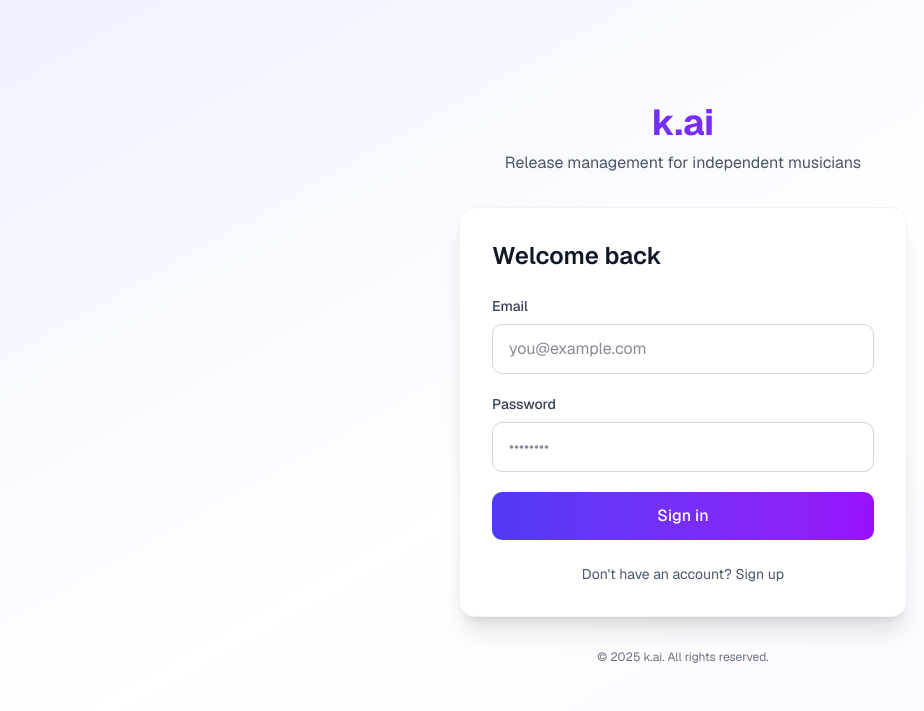
LoginPage › displays generic error message when error is not an Error instance
Type "test@example.com" into the field with placeholder "you@example.com" at point(683, 349), box x1=492 y1=324 x2=874 y2=374
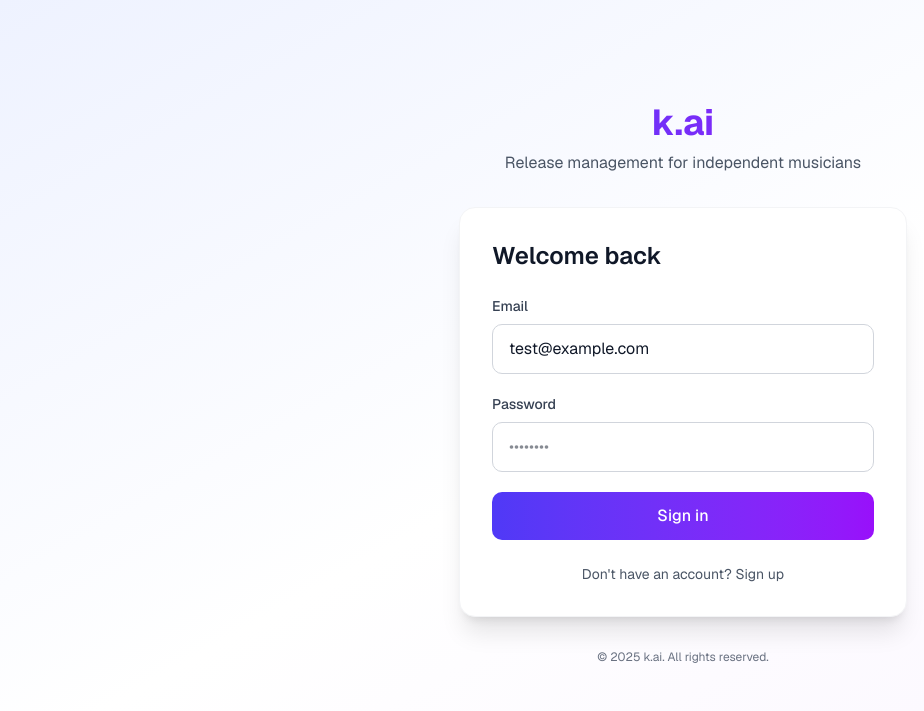
Type "password123" into the password field with placeholder "••••••••" at point(683, 447), box x1=492 y1=422 x2=874 y2=472
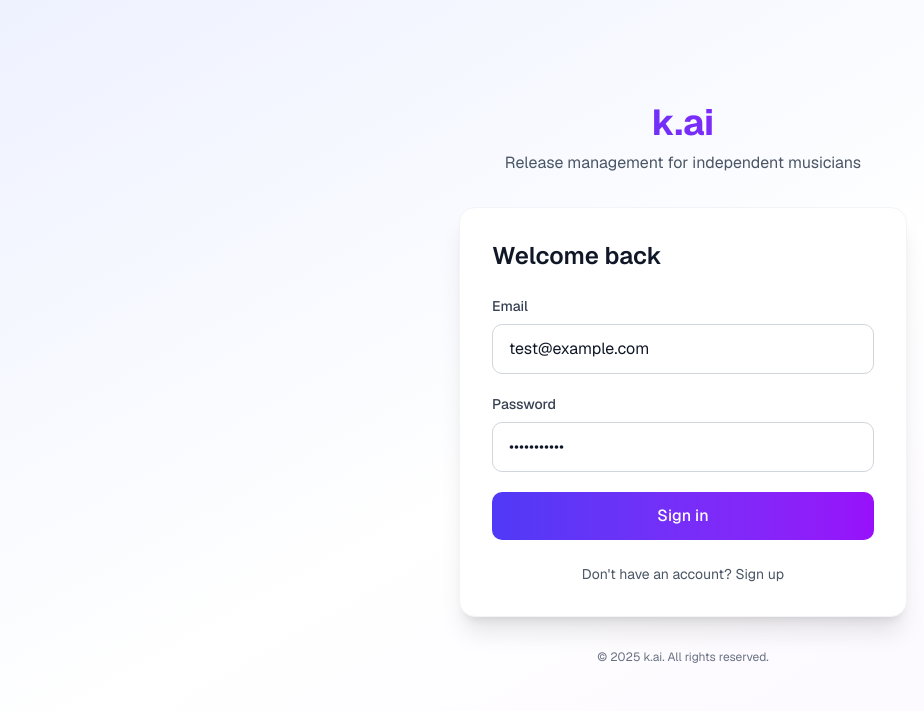
Click the button "Sign in" at point(683, 516), box x1=492 y1=492 x2=874 y2=540
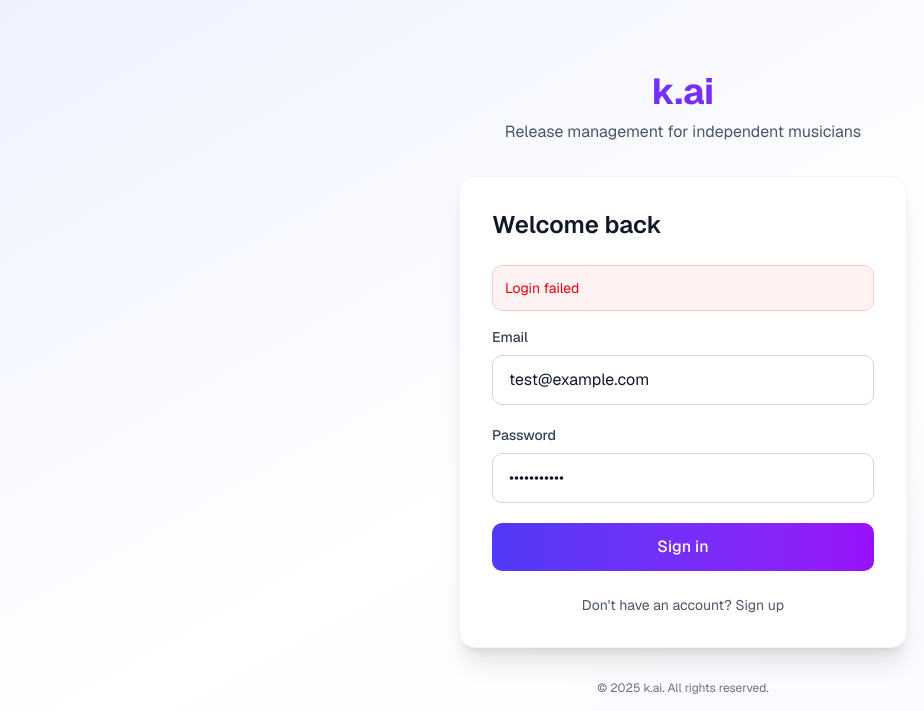
expect the text "Login failed" is shown: met, box x1=492 y1=265 x2=874 y2=311
